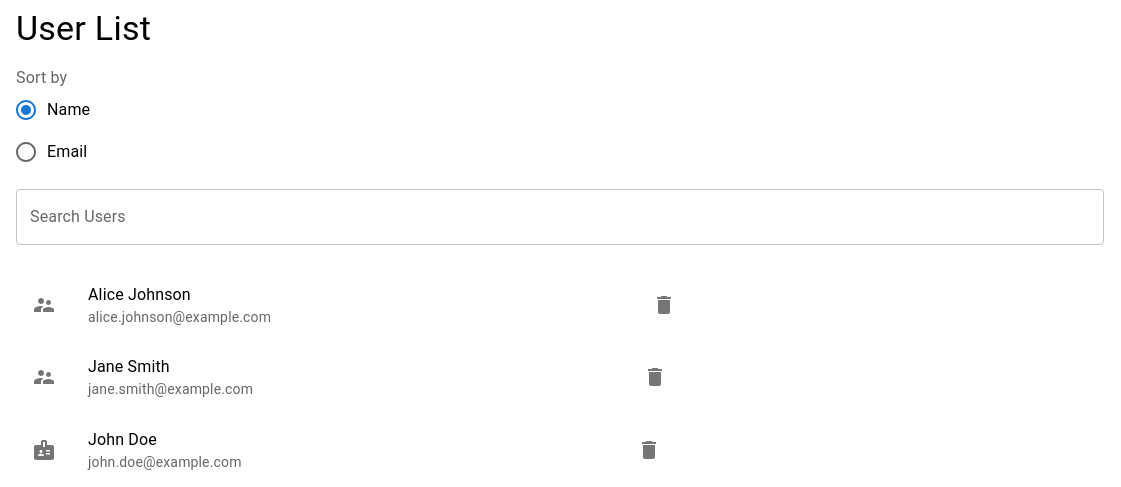
UserEmployeeListLeicht Component › should remove a user from the list when delete button is clicked
Step 1. Click the button named "delete-John Doe" → (649, 450), box left=637, top=438, right=661, bottom=462
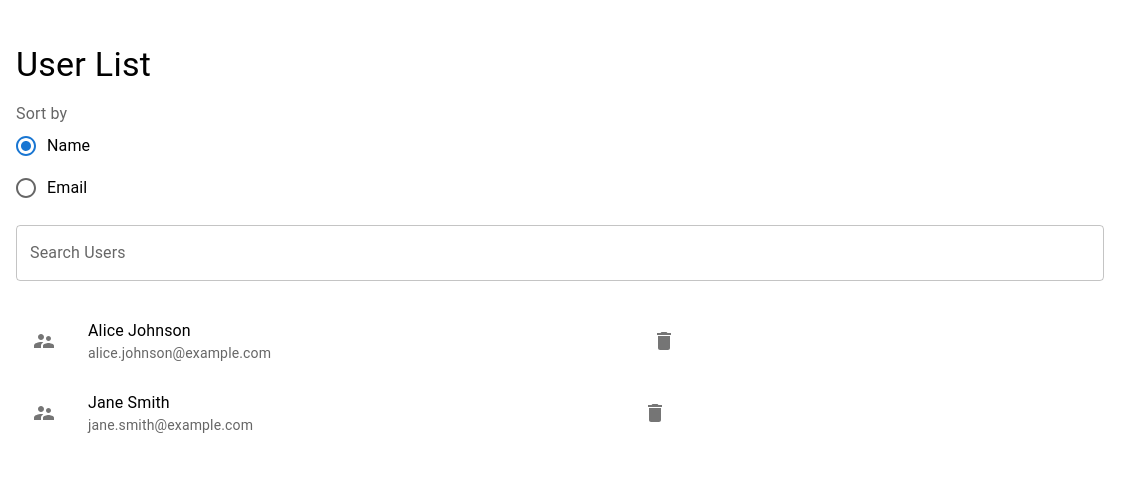
Expected: the text labelled "John Doe" is gone
